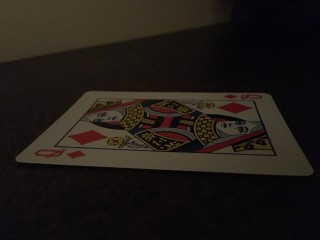QueenOfDiamonds: (15, 90, 314, 176)
